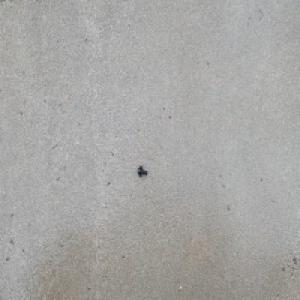BoltWasher: (137, 164, 147, 177)
